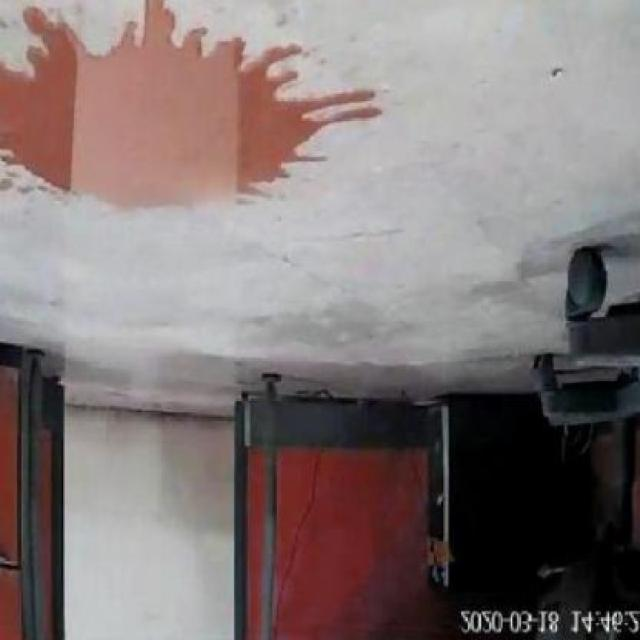spillage: (0, 0, 382, 207)
